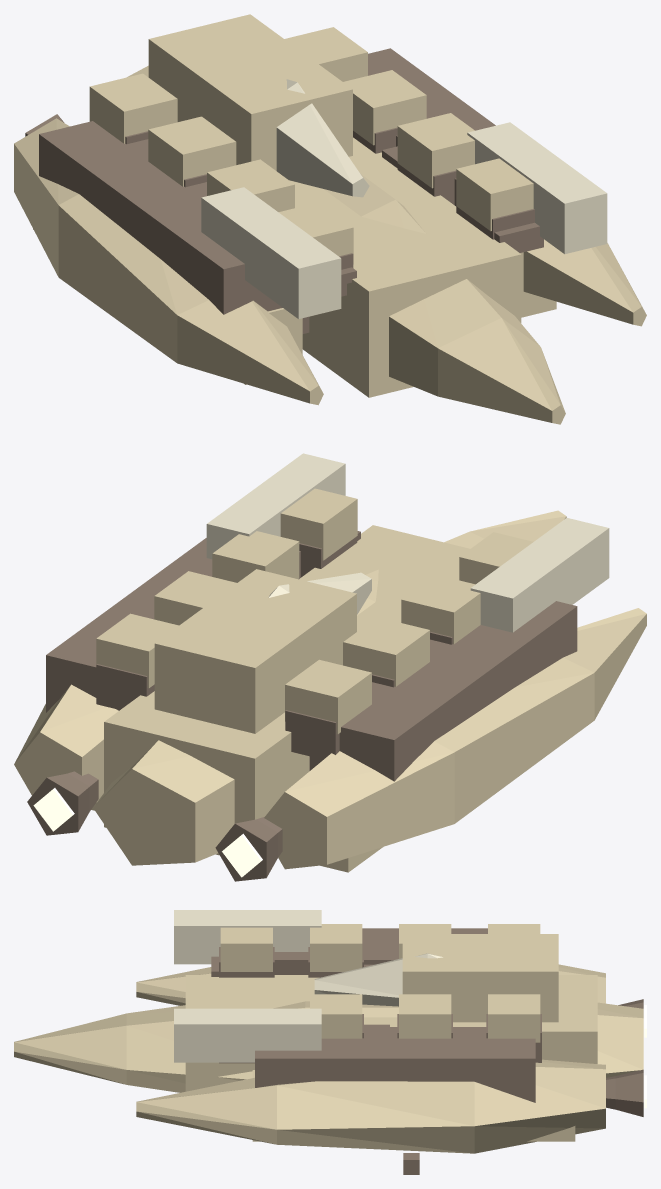
3 views of the same model, one above another, from view 1: azimuth 30°, elevation 25°; view 2: azimuth 150°, elevation 25°; view 3: azimuth 270°, elevation 25° (orthographic). The views are drawn at different scales.
Size of the model in its own units: 13.42 by 6.11 by 22.74.
